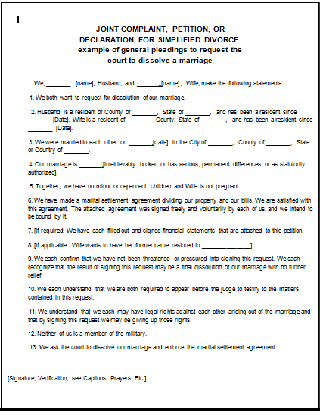textline: (200, 241, 251, 250), (45, 79, 72, 88), (136, 79, 163, 88), (77, 160, 104, 169), (132, 107, 158, 116), (185, 107, 211, 116), (265, 138, 291, 147), (200, 116, 227, 124), (26, 124, 53, 132), (127, 138, 154, 146), (206, 138, 233, 146), (126, 116, 152, 124), (25, 116, 51, 124), (63, 146, 89, 154)
